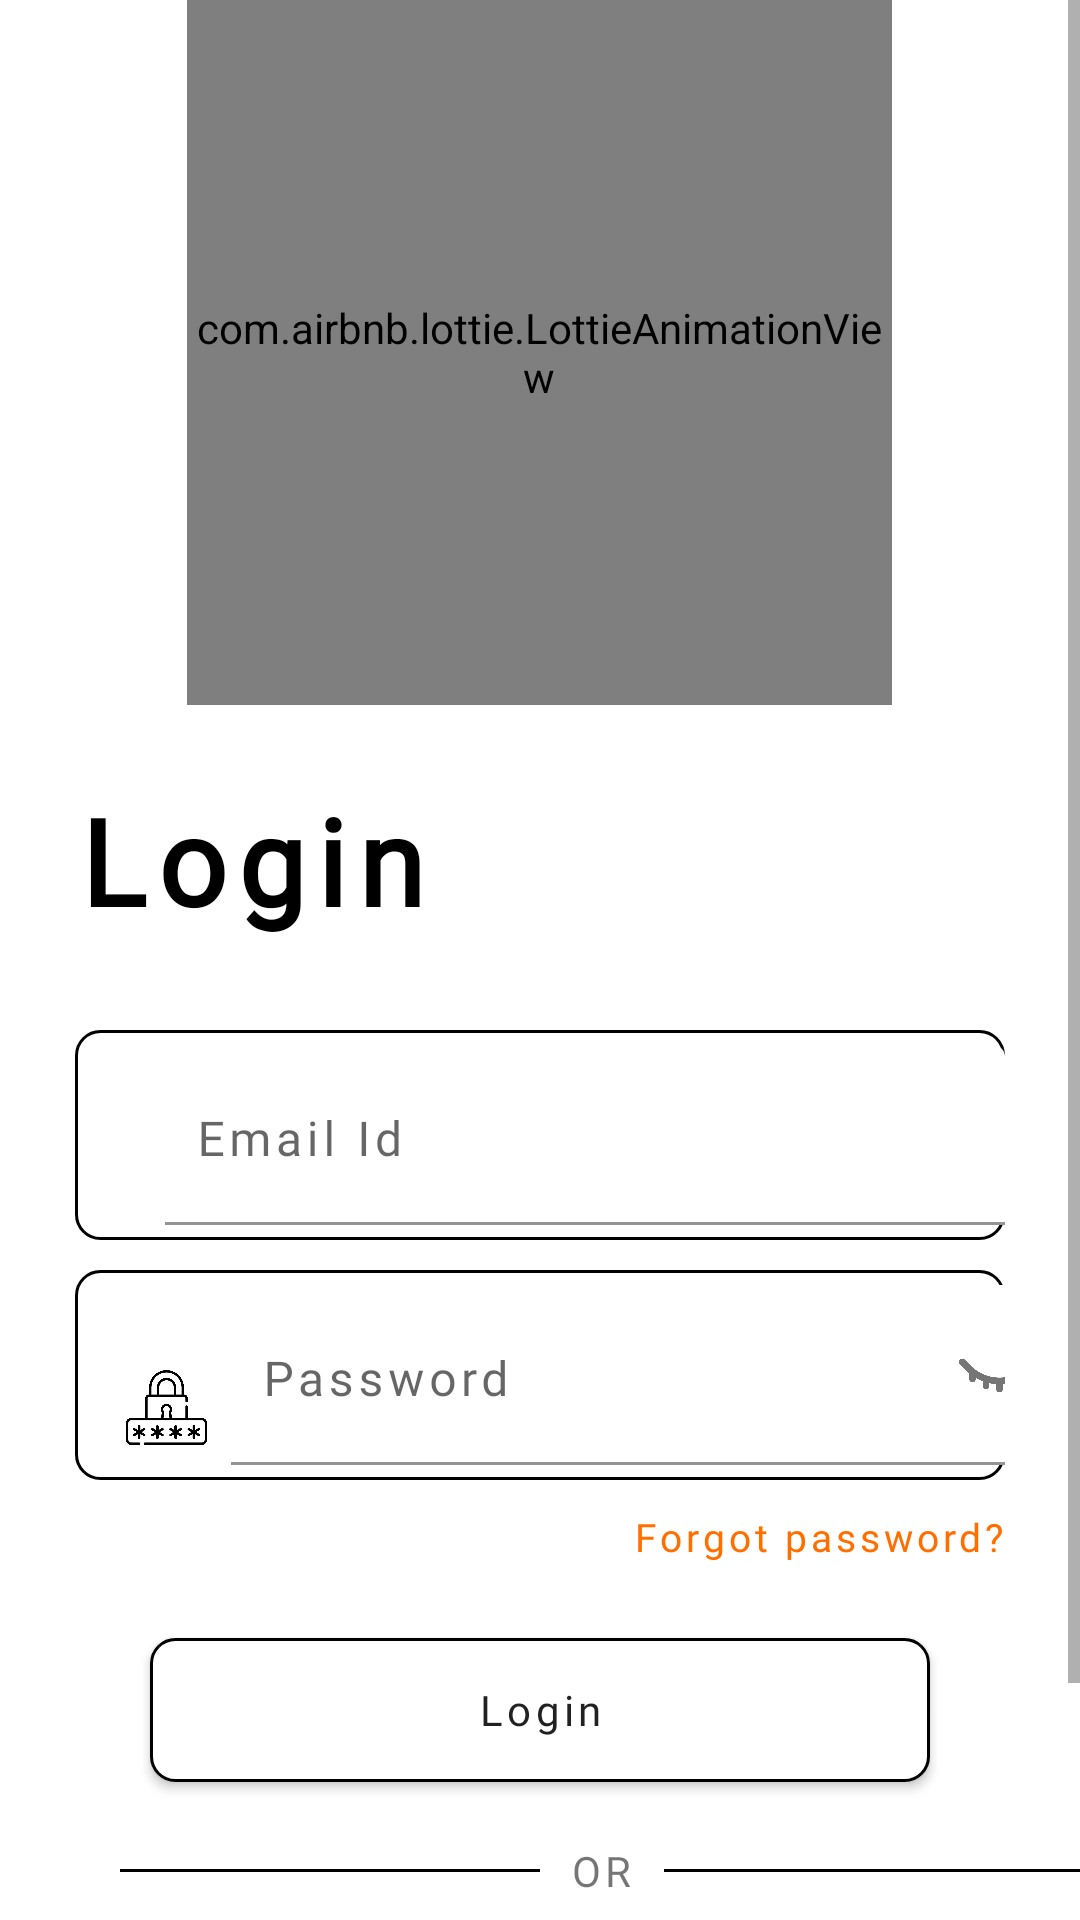

Screen size 1080*1920. Icon name, then its box in pixels as BBox(x1, y1, x2, y2):
lock: BBox(126, 1370, 207, 1445)
